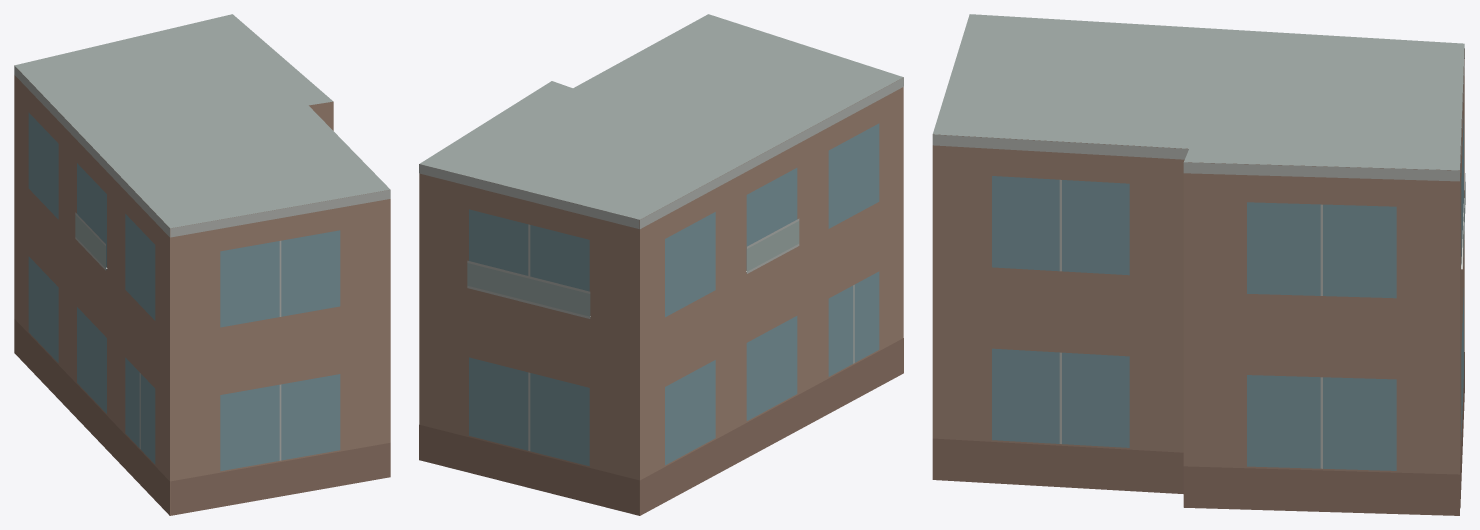
Rendered from survey-upis-32668099.glb.
3 views of the same model, side by side, from view 1: azimuth 30°, elevation 25°; view 2: azimuth 150°, elevation 25°; view 3: azimuth 270°, elevation 25° (orthographic). The views are drawn at different scales.
Visible parts, largest first — view 1: survey-upis-32668099.tmp; view 2: survey-upis-32668099.tmp; view 3: survey-upis-32668099.tmp.
Part boxes in pixels (left/top/right/bottom): survey-upis-32668099.tmp: left=14, top=14, right=390, bottom=515; survey-upis-32668099.tmp: left=419, top=14, right=903, bottom=515; survey-upis-32668099.tmp: left=932, top=14, right=1465, bottom=515.
Size of the model in its own units: 7.39 by 7.6 by 10.63.
